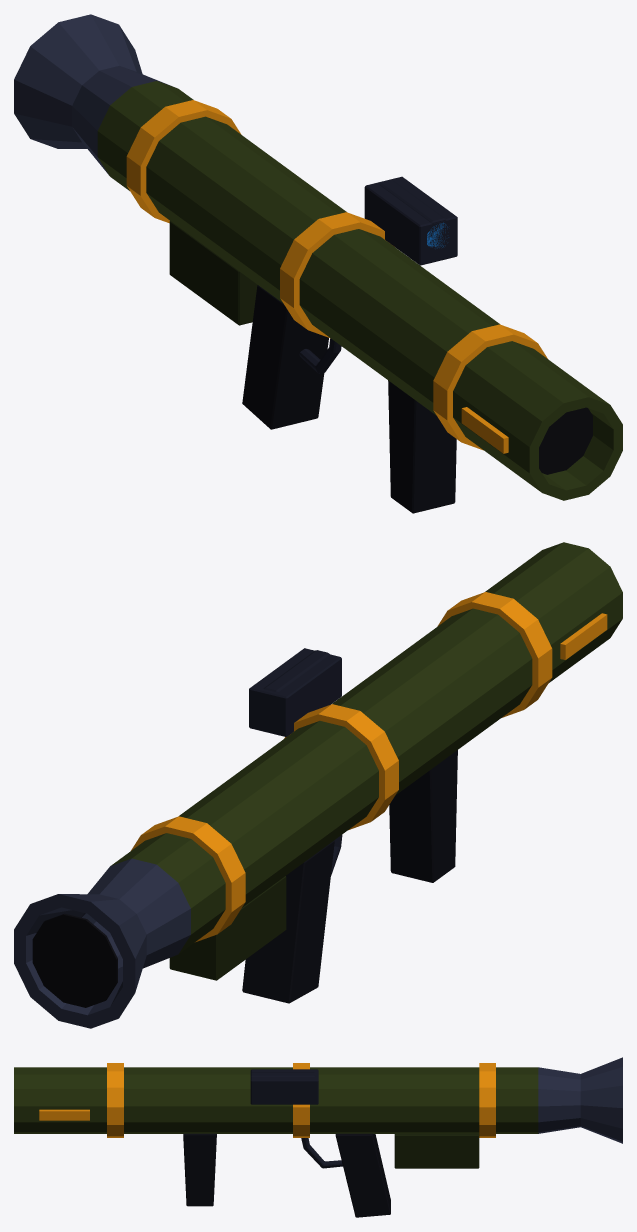
Rendered from myw_recoillessrifle.obj.
3 views of the same model, one above another, from view 1: azimuth 30°, elevation 25°; view 2: azimuth 150°, elevation 25°; view 3: azimuth 270°, elevation 25° (orthographic). The views are drawn at different scales.
Parts seen in each view (by area): view 1: Tube, Grips, Venturi; view 2: Tube, Grips, Venturi; view 3: Tube, Grips, Venturi.
Part boxes in pixels (x1,y1,x2,y2): Tube: (97,81,622,500); Grips: (169,176,457,513); Venturi: (14,14,172,175); Tube: (111,542,622,953); Grips: (169,648,457,1003); Venturi: (14,858,190,1028); Tube: (14,1063,538,1137); Grips: (183,1069,479,1217); Venturi: (538,1057,622,1143).
Bounding box in the file's own units: 0.5711 × 1 × 3.6.
